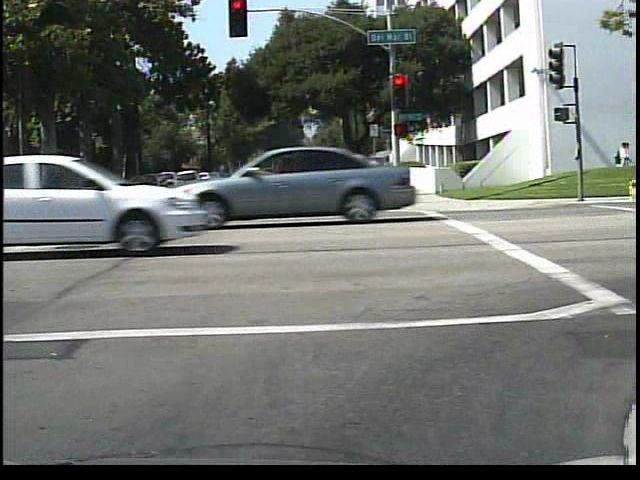person: (608, 137, 633, 199)
